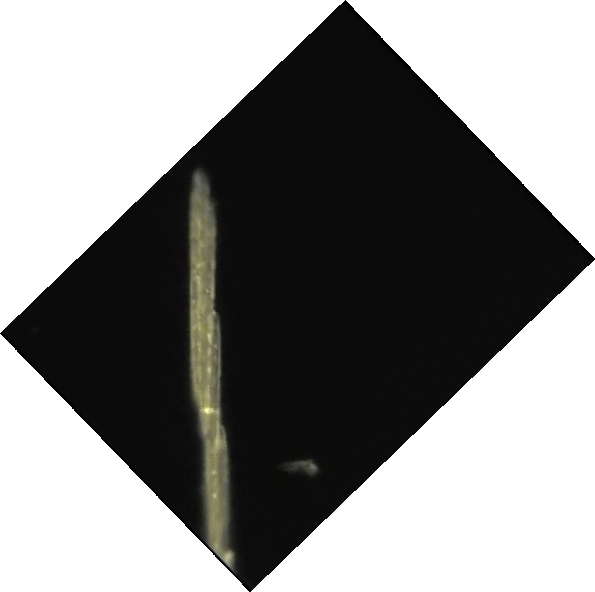bacilleria: (190, 173, 214, 441), (201, 310, 223, 557)
